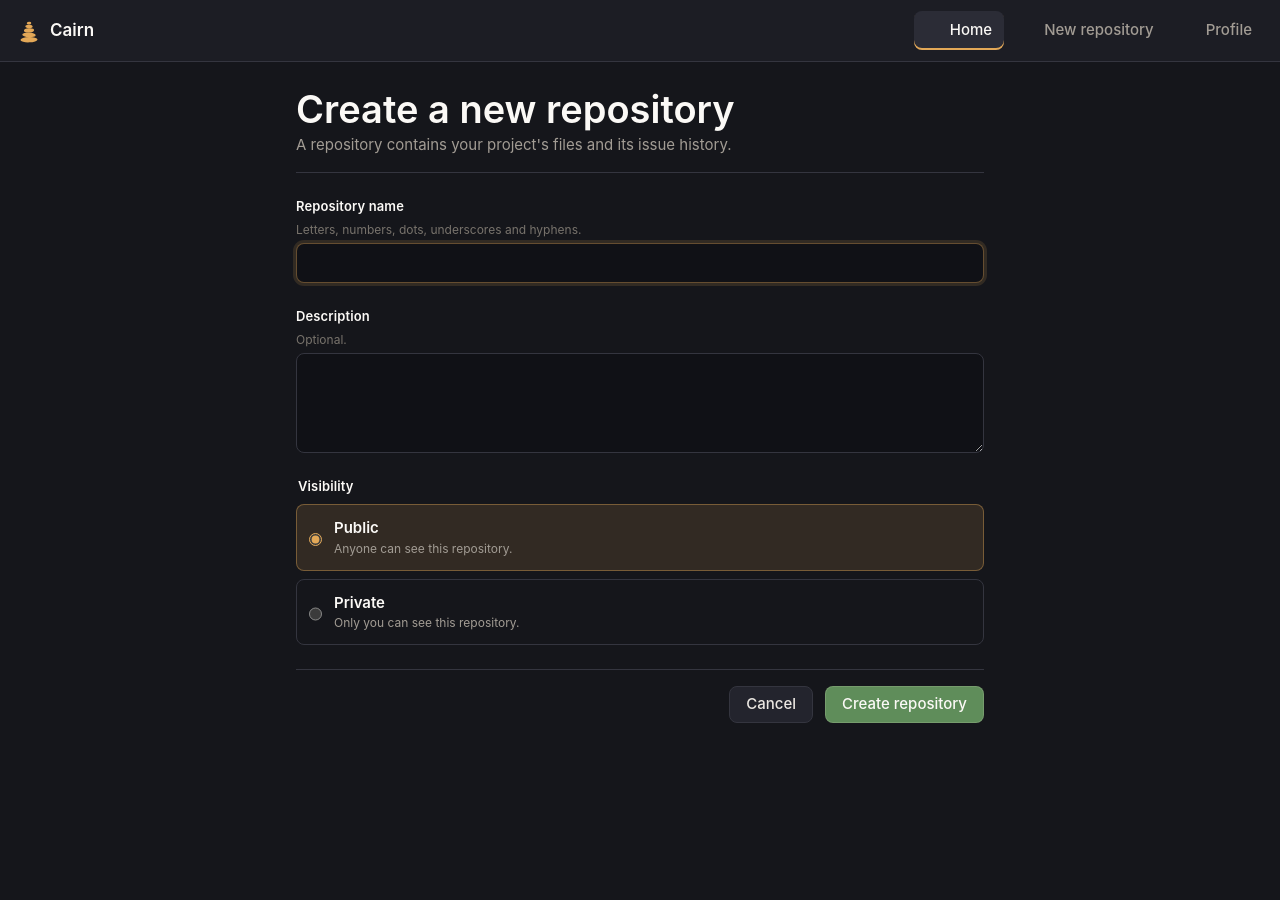
Test case: CreateRepository › clears a field error as soon as the user edits it
Click the button "Create repository" at [904, 704], box top-left (825, 686), bottom-right (984, 722)
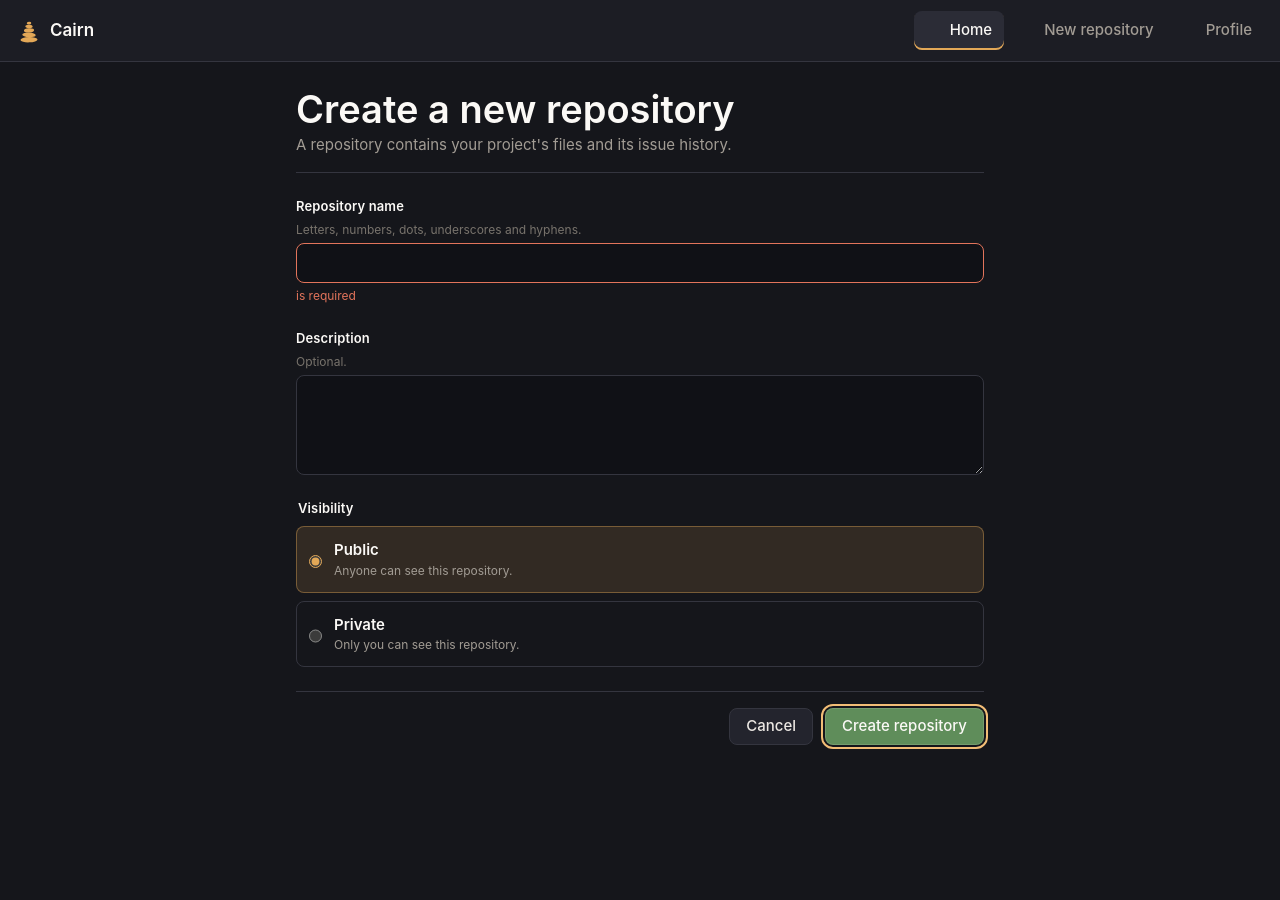
Result: the text "is required" is shown at top-left (296, 288), bottom-right (356, 303)
Type "valid-name" into the field labelled "Repository name" at [640, 263], box top-left (296, 242), bottom-right (984, 283)
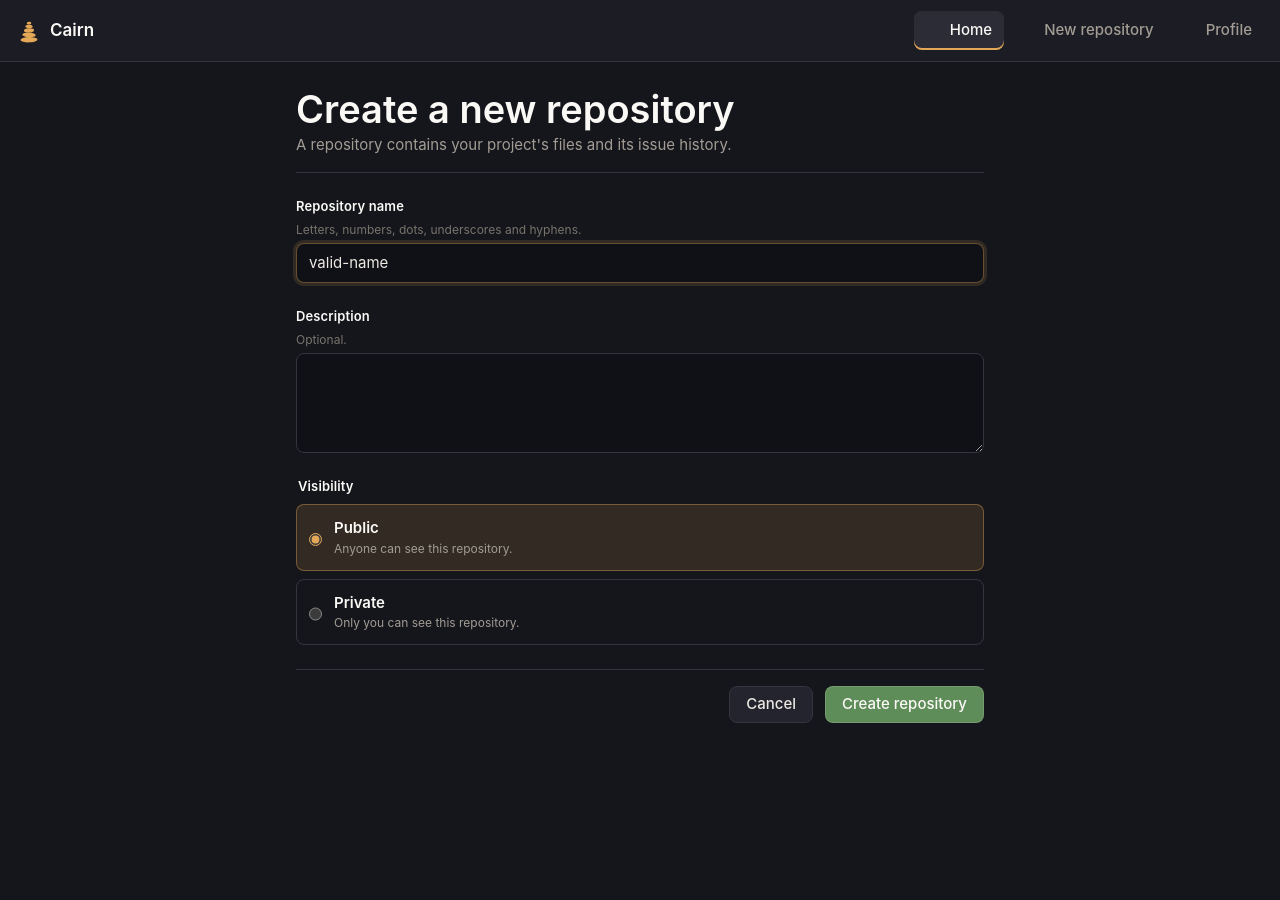
Result: the text "is required" is gone
